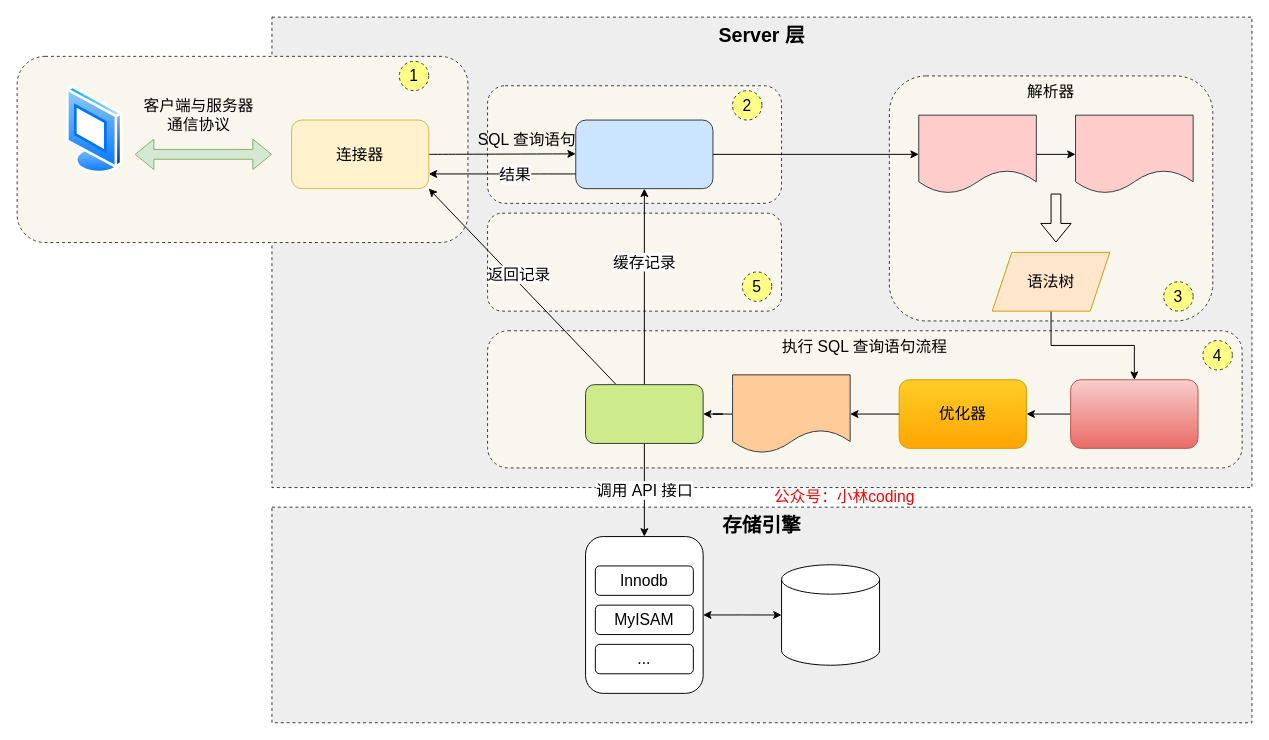
Image size: 1269x740. Some labels were removed from this diagram. Each missing label, with the centre of its shape:
"客户端" belongs at (x=94, y=129).
"执行器" belongs at (x=644, y=413).
"执行计划" belongs at (x=791, y=413).
"数据" belongs at (x=830, y=614).
"查询缓存" belongs at (x=644, y=154).
"词法分析" belongs at (x=977, y=154).
"语法分析" belongs at (x=1134, y=154).
"预处理器" belongs at (x=1134, y=413).
